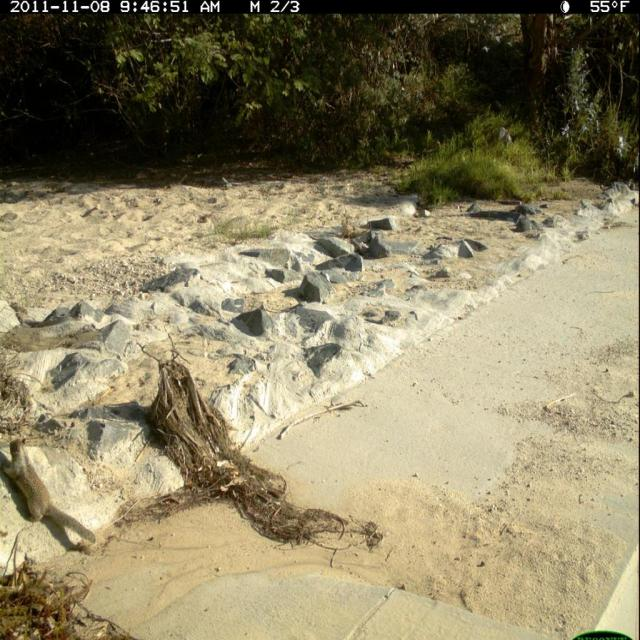squirrel: (1, 435, 99, 551)
